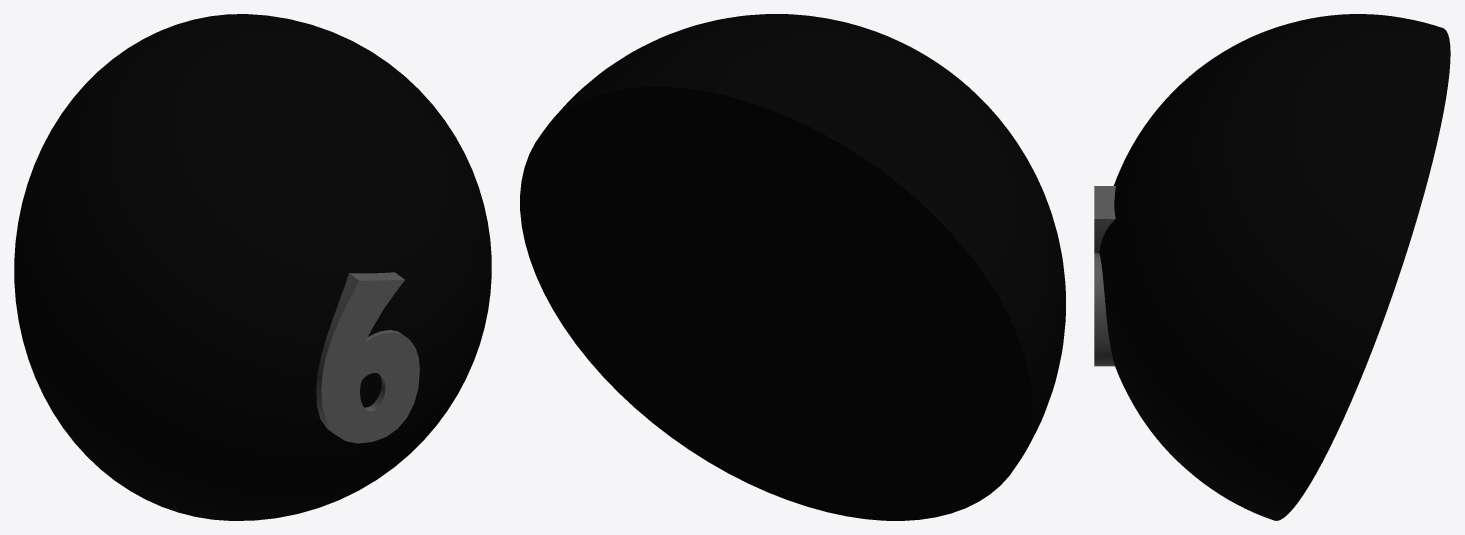
Rendered from button6.fbx.
3 renders of one model, left to right at view 1: azimuth 30°, elevation 25°; view 2: azimuth 150°, elevation 25°; view 3: azimuth 270°, elevation 25°, orthographic. The views are drawn at different scales.
Visible parts, largest first — view 1: root, node_id139; view 2: root; view 3: root, node_id139.
Boxes of the visible parts, box(x1,y1,x2,y2) form: root: box(14, 14, 491, 520); node_id139: box(316, 272, 419, 443); root: box(520, 14, 1065, 520); root: box(1099, 14, 1450, 520); node_id139: box(1094, 186, 1115, 366).
Size of the model in its own units: 0.2 by 0.1936 by 0.1368.
Materials: 2 (1 with a texture image).
